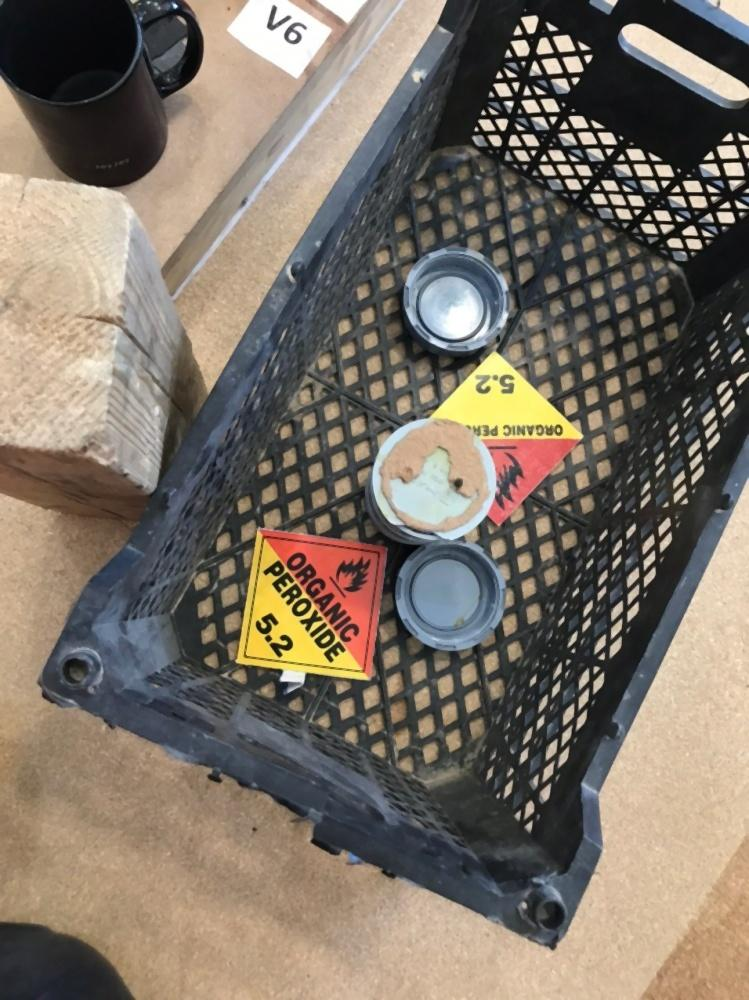organic-peroxide: (426, 361, 589, 526), (234, 525, 377, 688)
